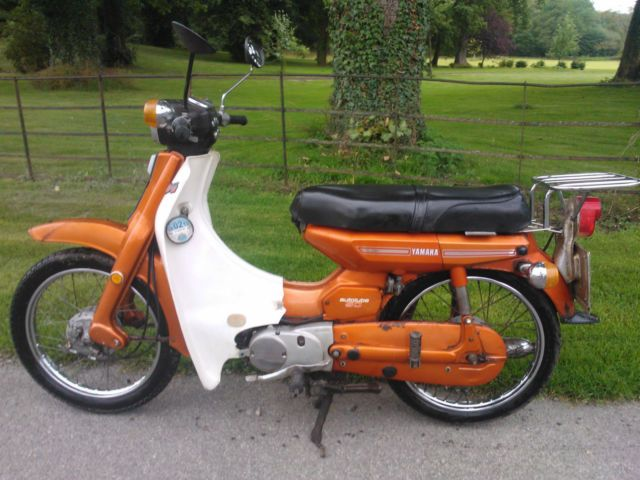bike: (12, 21, 640, 423)
tree: (319, 1, 439, 163)
